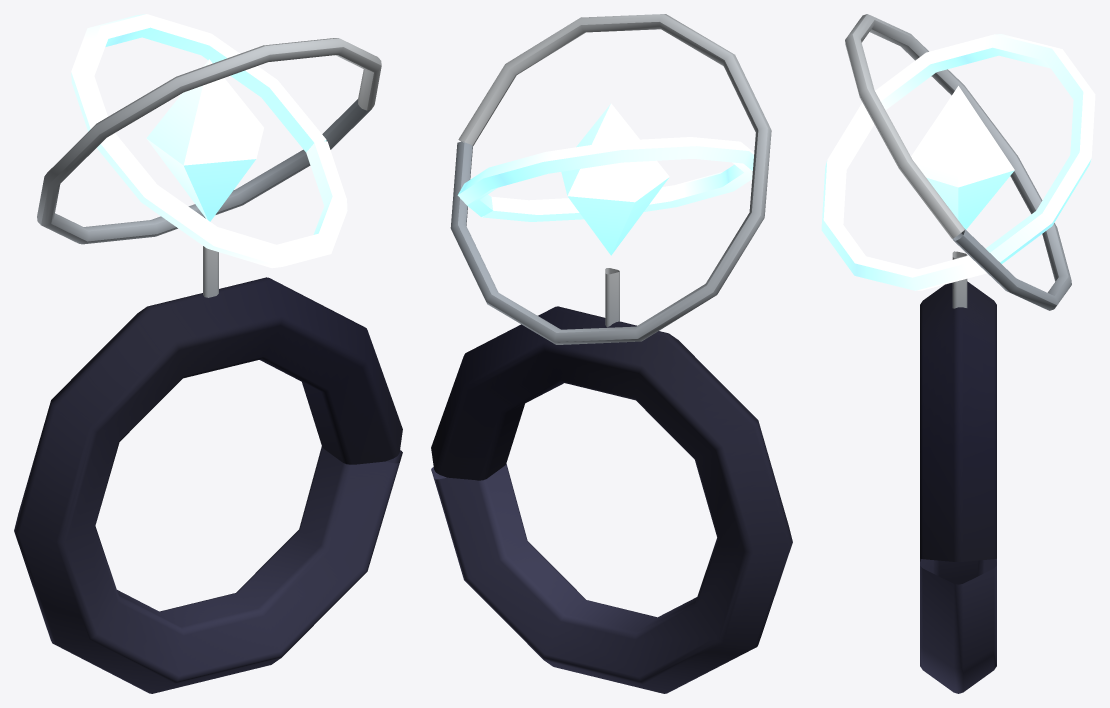
Rendered from lg_severance_orbit.glb.
3 renders of one model, left to right at view 1: azimuth 30°, elevation 25°; view 2: azimuth 150°, elevation 25°; view 3: azimuth 270°, elevation 25°, orthographic. The views are drawn at different scales.
Parts seen in each view (by area): view 1: lg_severance_orbit, lg_severance_orbit_glow; view 2: lg_severance_orbit, lg_severance_orbit_glow; view 3: lg_severance_orbit, lg_severance_orbit_glow.
Boxes of the visible parts, x1,y1,x2,y2 form: lg_severance_orbit: [14, 38, 402, 693]; lg_severance_orbit_glow: [71, 14, 347, 268]; lg_severance_orbit: [431, 14, 792, 693]; lg_severance_orbit_glow: [457, 103, 754, 255]; lg_severance_orbit: [845, 14, 1071, 693]; lg_severance_orbit_glow: [821, 34, 1095, 290].
Bounding box in the file's own units: 0.4929 × 0.8219 × 0.323.
